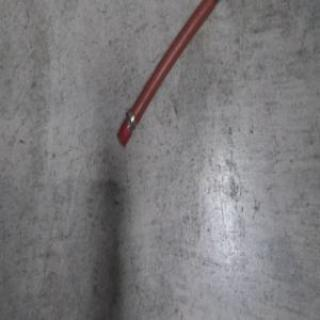Hosetrack_idkeyframe: (114, 0, 221, 149)
